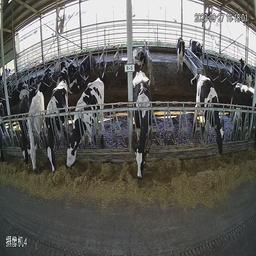cow: (63, 79, 107, 167), (130, 68, 153, 182), (192, 74, 224, 154), (45, 81, 68, 173), (26, 90, 45, 169), (17, 93, 31, 163), (55, 64, 77, 90), (69, 65, 86, 94), (175, 34, 185, 75), (189, 37, 203, 64), (20, 76, 36, 98), (131, 46, 145, 67)
